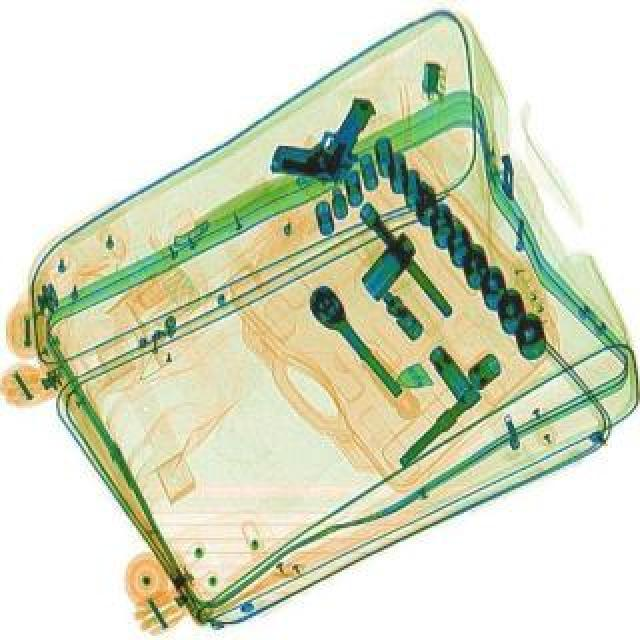gun: (264, 74, 380, 196)
